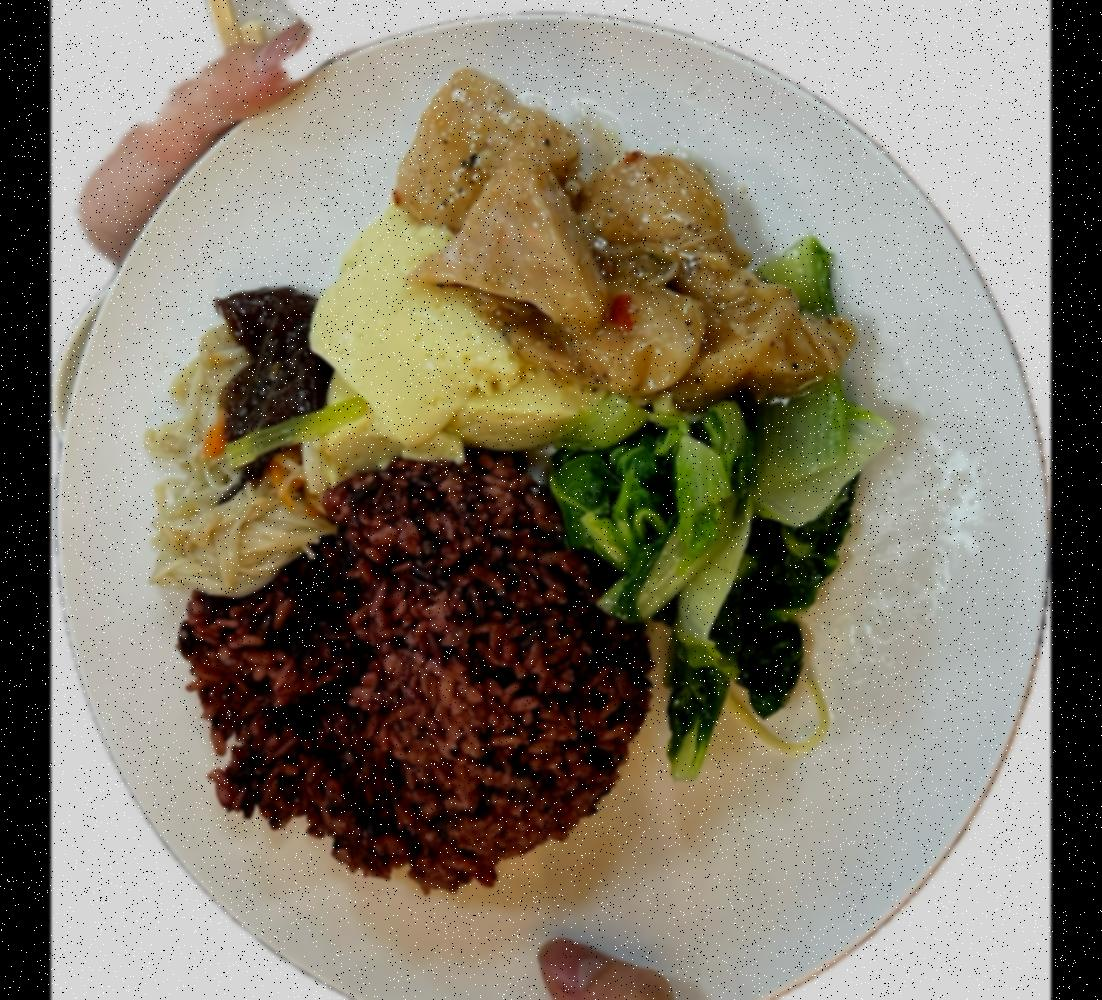big fried chicken leg: (51, 1, 1051, 1000)
braised fish: (175, 444, 649, 884)
braised fish fillet: (550, 244, 888, 792), (306, 202, 574, 483), (138, 286, 331, 596)
braised pork: (396, 57, 846, 400)
